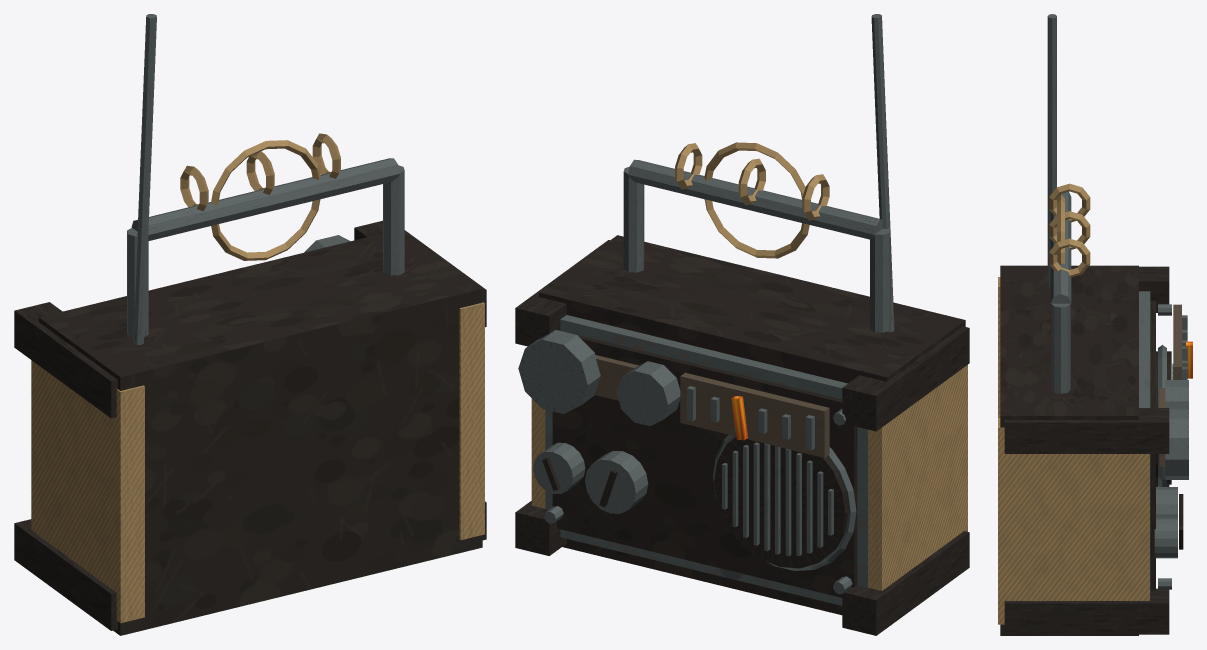
The model's file is pr-005_portable_radio__active.obj.
3 renders of one model, left to right at view 1: azimuth 30°, elevation 25°; view 2: azimuth 150°, elevation 25°; view 3: azimuth 270°, elevation 25°, orthographic. The views are drawn at different scales.
Parts seen in each view (by area): view 1: pr-005_portable_radio__active; view 2: pr-005_portable_radio__active; view 3: pr-005_portable_radio__active.
Part boxes in pixels (<box>): pr-005_portable_radio__active: <box>14,14,486,635</box>; pr-005_portable_radio__active: <box>515,14,969,635</box>; pr-005_portable_radio__active: <box>998,14,1192,635</box>.
Size of the model in its own units: 0.85 by 1.26 by 0.449.
Materials: 5 (5 with a texture image).
